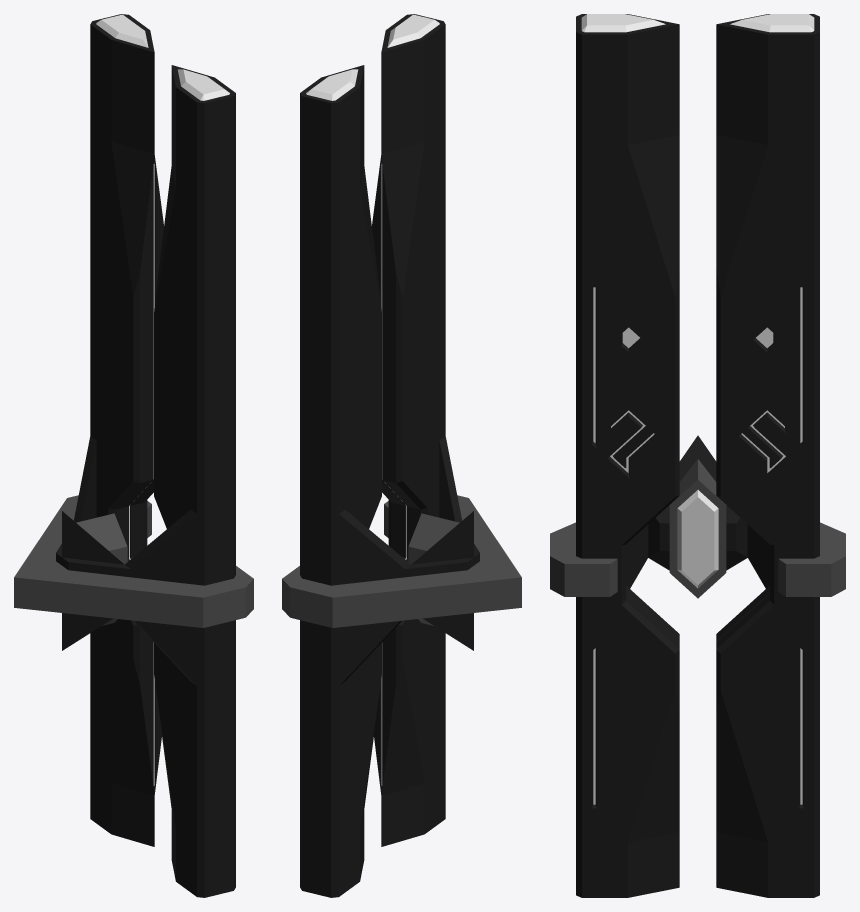
File: Gate.fbx
3 views of the same model, side by side, from view 1: azimuth 30°, elevation 25°; view 2: azimuth 150°, elevation 25°; view 3: azimuth 270°, elevation 25° (orthographic). The views are drawn at different scales.
Parts seen in each view (by area): view 1: Cube.002; view 2: Cube.002; view 3: Cube.002.
Boxes of the visible parts, bbox=[...] form: Cube.002: bbox=[14, 14, 253, 897]; Cube.002: bbox=[282, 14, 521, 897]; Cube.002: bbox=[550, 14, 845, 897].
Bounding box in the file's own units: 104 × 448 × 138.
